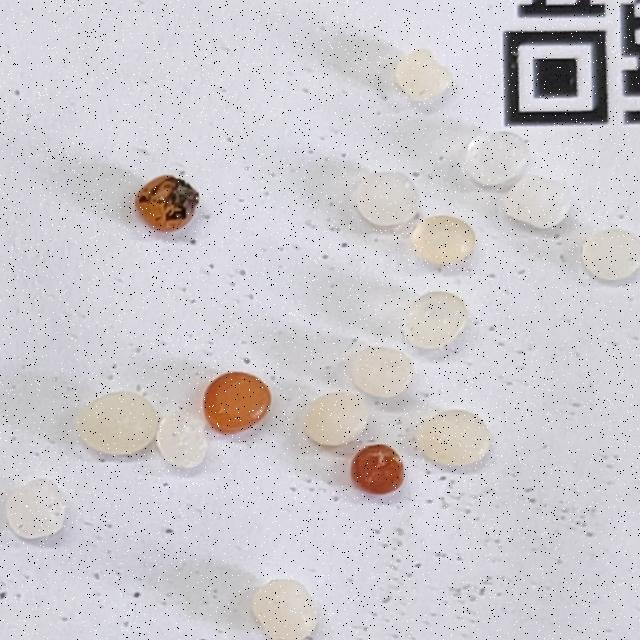beads: (411, 397, 501, 487), (191, 360, 278, 449), (393, 278, 479, 361), (72, 388, 163, 464), (127, 162, 208, 243), (297, 379, 377, 461), (501, 170, 576, 234), (389, 42, 457, 110), (2, 476, 67, 541), (152, 408, 213, 473), (252, 580, 317, 640), (410, 214, 478, 268), (466, 132, 532, 186), (356, 172, 417, 226), (353, 348, 415, 399), (584, 231, 640, 280), (353, 446, 404, 495)
